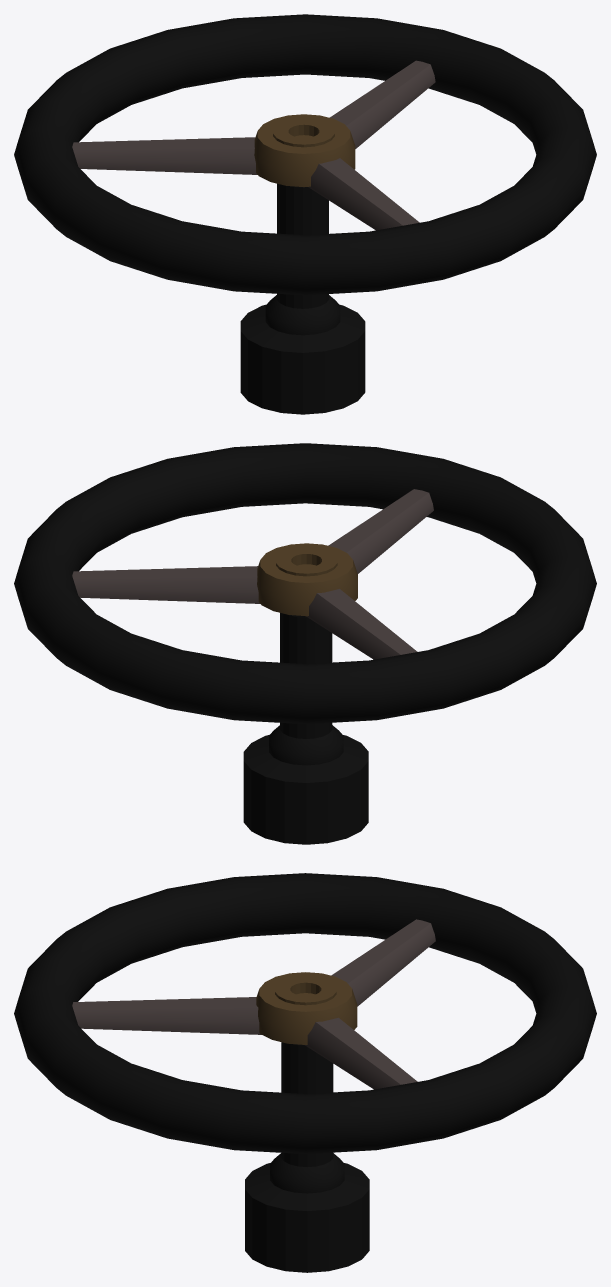
File: Wheel.fbx
3 renders of one model, top to bottom at view 1: azimuth 30°, elevation 25°; view 2: azimuth 150°, elevation 25°; view 3: azimuth 270°, elevation 25°, orthographic.
Parts seen in each view (by area): view 1: Wheel; view 2: Wheel; view 3: Wheel.
Boxes of the visible parts, <box> form: Wheel: <box>14,14,596,414</box>; Wheel: <box>14,443,596,844</box>; Wheel: <box>14,873,596,1272</box>.
Size of the model in its own units: 10.57 by 5.21 by 10.57.
